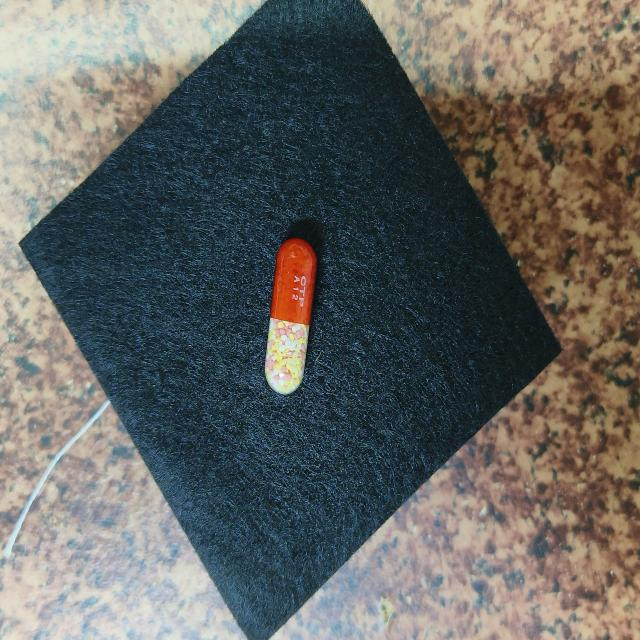Intact Capsule: (265, 238, 317, 394)
